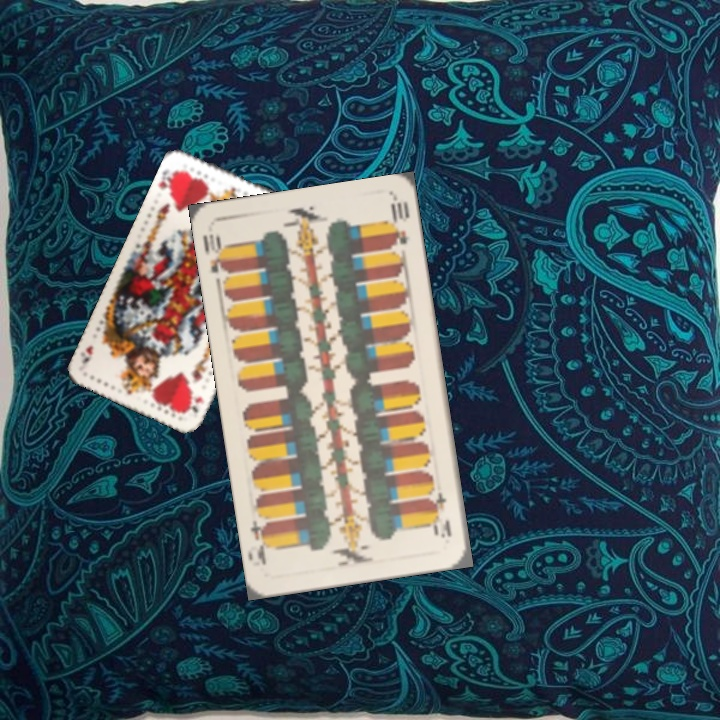E10: (200, 229, 233, 285), (428, 488, 454, 541)
HK: (154, 165, 182, 197), (183, 393, 206, 420)
